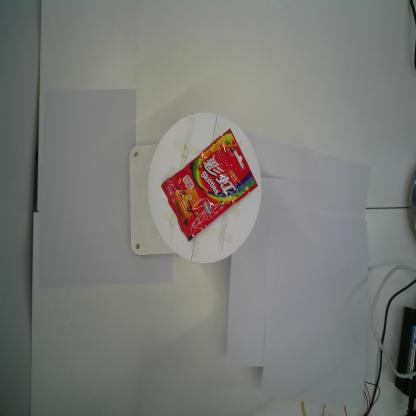Candy: (160, 126, 258, 242)
